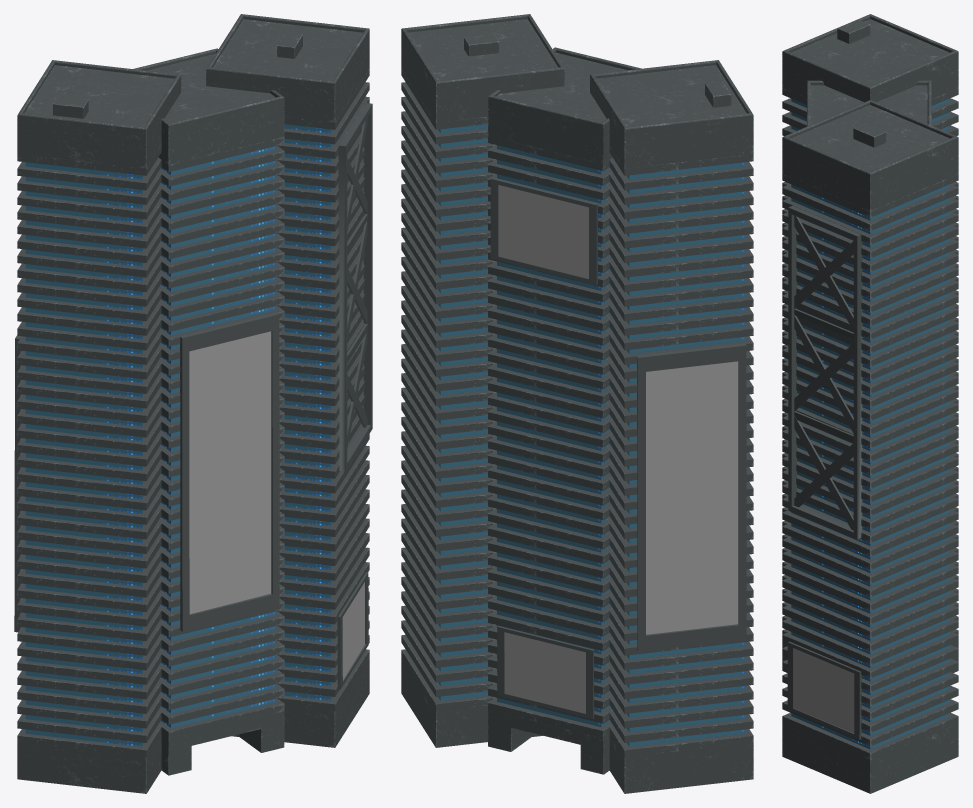
File: BLD1310012.fbx
3 views of the same model, side by side, from view 1: azimuth 30°, elevation 25°; view 2: azimuth 150°, elevation 25°; view 3: azimuth 270°, elevation 25° (orthographic). The views are drawn at different scales.
Parts seen in each view (by area): view 1: smBLD1310012; view 2: smBLD1310012; view 3: smBLD1310012.
Part boxes in pixels (left/top/right/bottom): smBLD1310012: left=14, top=14, right=372, bottom=793; smBLD1310012: left=401, top=14, right=753, bottom=793; smBLD1310012: left=782, top=14, right=958, bottom=793.
Size of the model in its own units: 3632 by 6630 by 1688.
4 materials, 1 textured.
